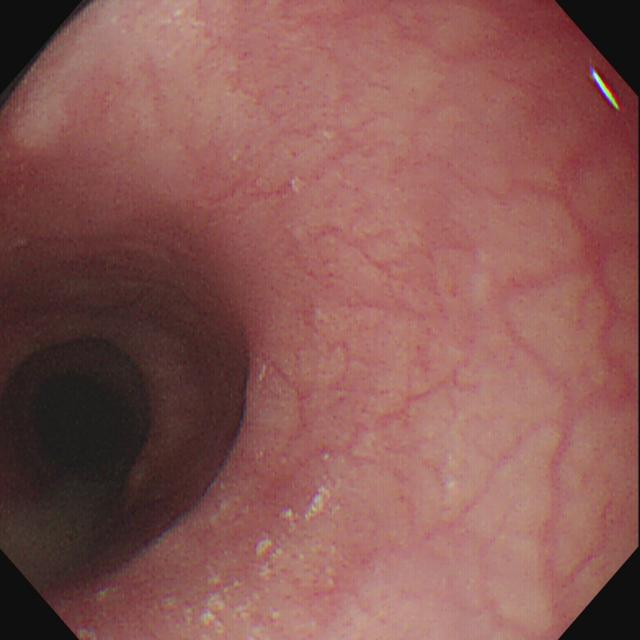E: (37, 377, 129, 467)
J: (201, 578, 253, 632), (279, 488, 331, 522), (254, 540, 286, 579)
U: (592, 71, 622, 112)
